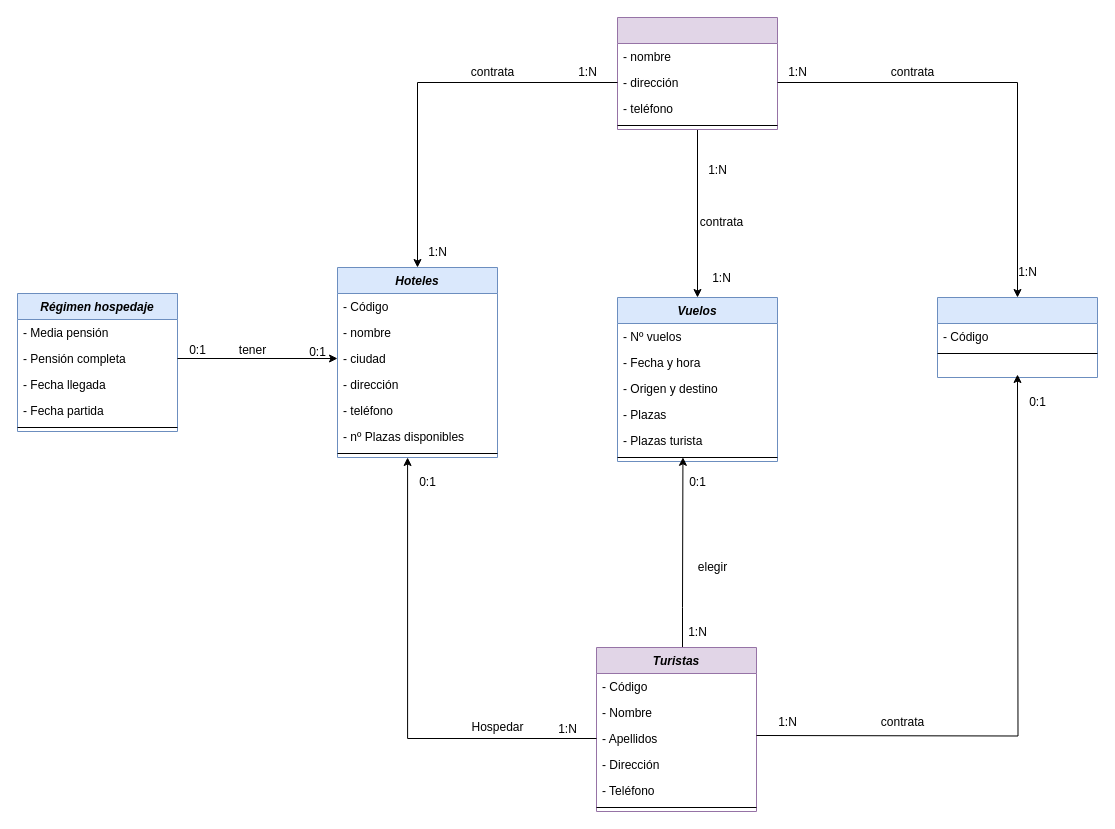
This 1115x829 diagram has some shape labels left out. Each missing label, with the box of its shape:
Agencia: (616, 16, 778, 130)
Sucursal: (936, 296, 1098, 378)
